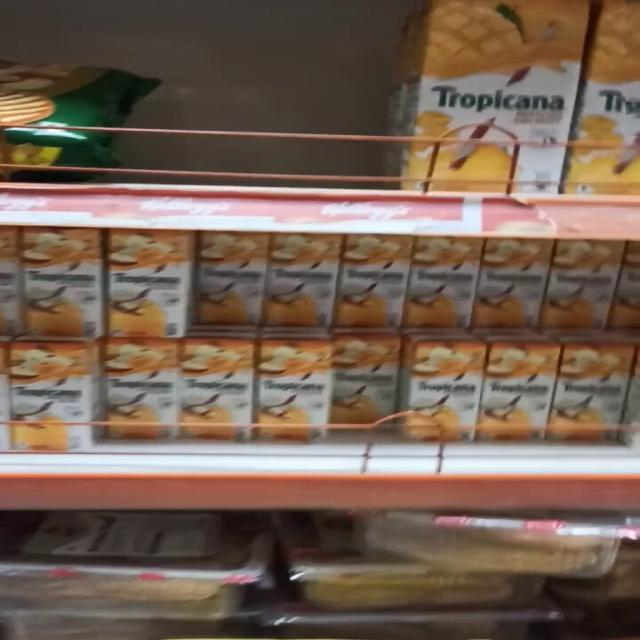Tropicana: (416, 0, 571, 199), (18, 227, 108, 337), (101, 229, 190, 339), (7, 346, 93, 449), (402, 337, 485, 436), (101, 340, 183, 437), (554, 345, 628, 447), (182, 343, 262, 437), (480, 341, 555, 440), (484, 233, 552, 336), (256, 339, 331, 430), (198, 228, 268, 325), (327, 334, 404, 422), (338, 238, 408, 333), (552, 239, 614, 336), (268, 235, 330, 330), (414, 235, 471, 327)
